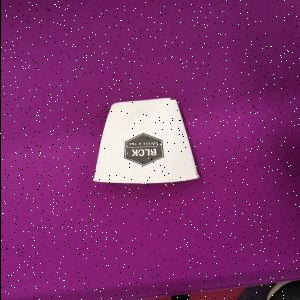Cup: (91, 98, 201, 185)
